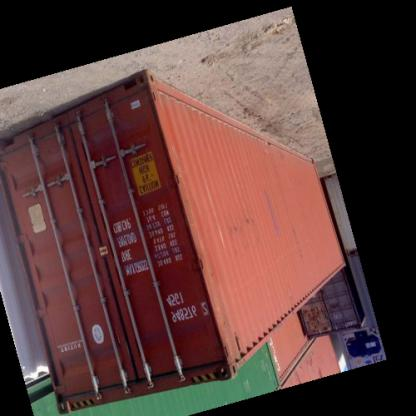Damage: (96, 160, 128, 214), (286, 216, 308, 269), (261, 192, 278, 236), (230, 214, 256, 235)
